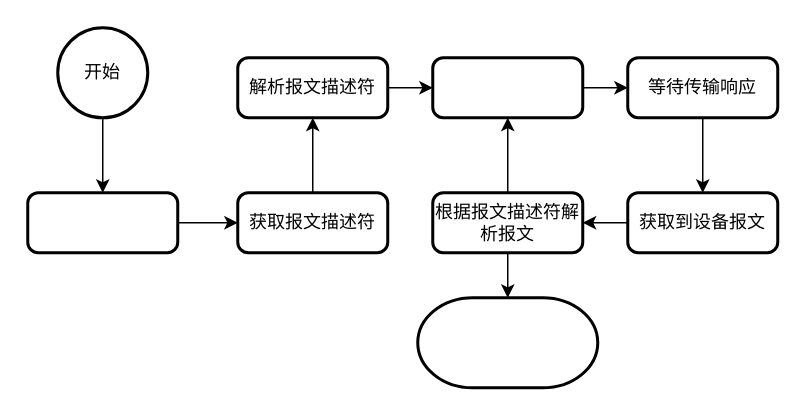
Some shapes in this 804 by 414 pixel diagram are drawn without their labels. The shapes that lost their labels are listed below. From the top down, each one's centre as x and y in pixels, then its label:
At (x=507, y=87): "发起中断传输".
At (x=102, y=222): "选择特定接口配置".
At (x=507, y=342): "将解析后报文发送至事件总线".
